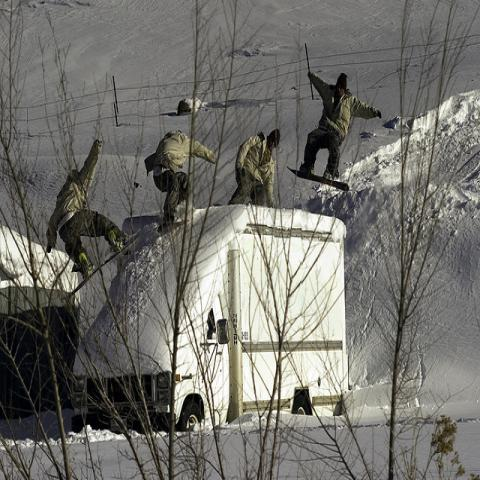truck: (70, 203, 348, 433)
